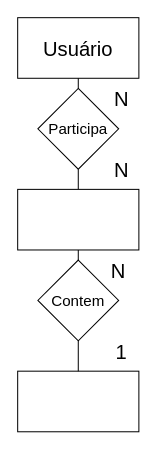
Image size: 160x449. Some labels were removed from this diagram. Here are the shapes that lost their labels. From the top down, the centre of each, then its label:
pixel 78 219: Eventos
pixel 78 401: Categoria
